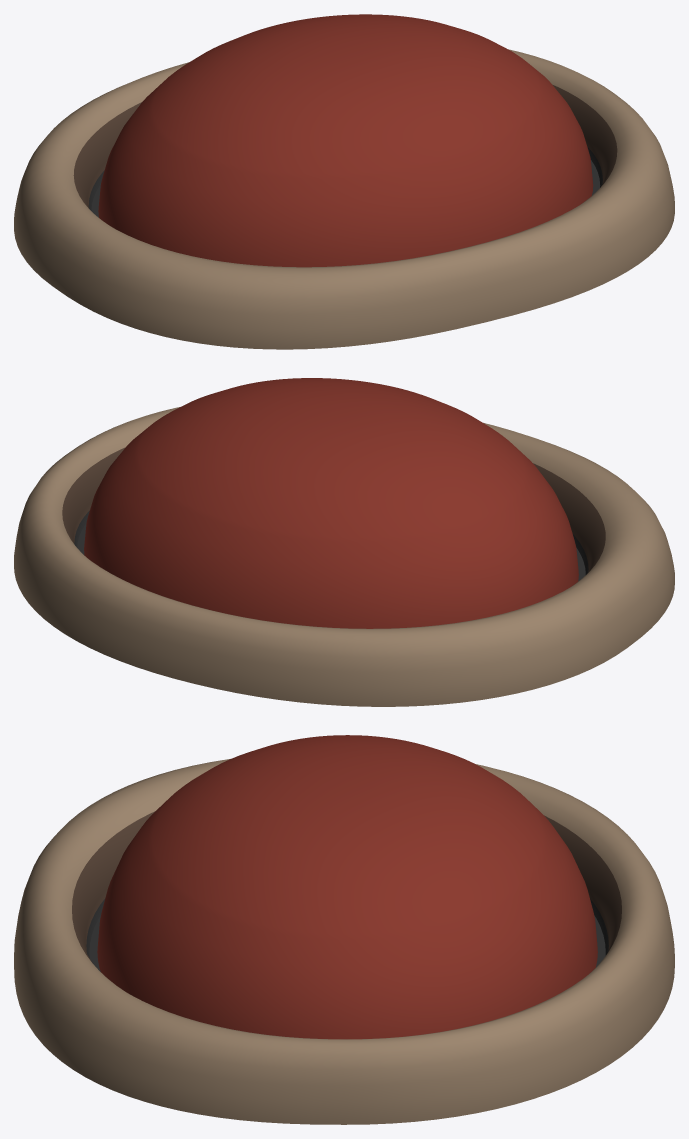
Rendered from dome_red.glb.
3 views of the same model, one above another, from view 1: azimuth 30°, elevation 25°; view 2: azimuth 150°, elevation 25°; view 3: azimuth 270°, elevation 25° (orthographic). The views are drawn at different scales.
Visible parts, largest first — view 1: dome_red; view 2: dome_red; view 3: dome_red.
Boxes of the visible parts, x1,y1,x2,y2 form: dome_red: [14, 14, 674, 349]; dome_red: [14, 378, 674, 706]; dome_red: [14, 735, 674, 1124].
Bounding box in the file's own units: 24 × 6.6 × 21.
